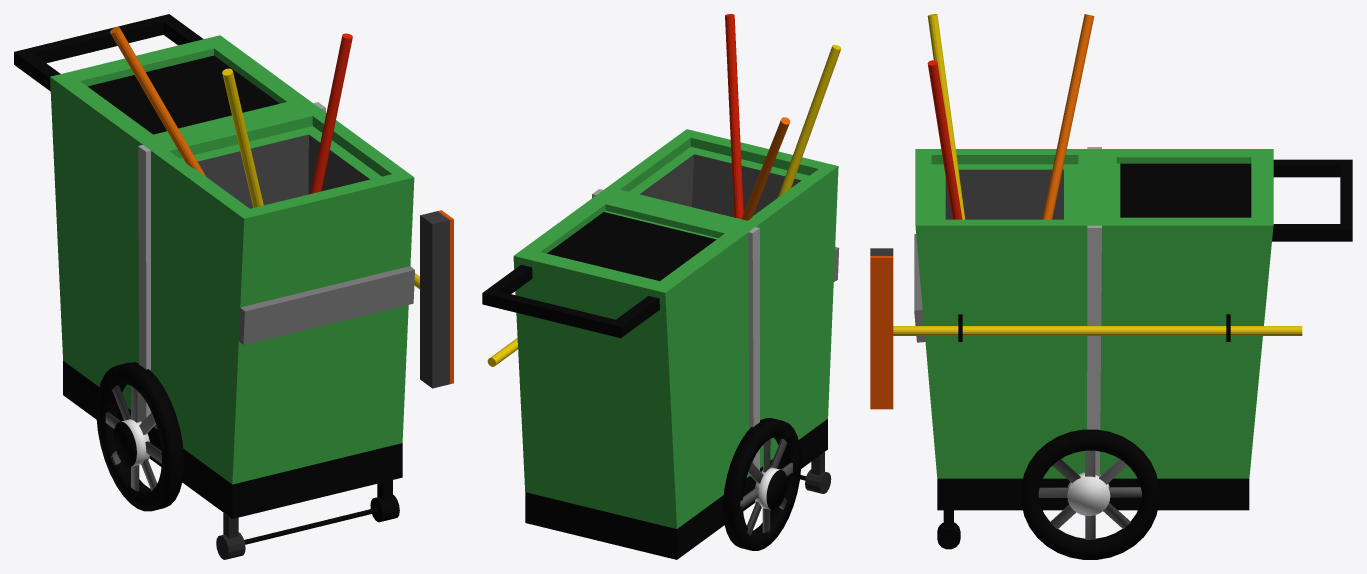
The model's file is cleaningcart.fbx.
3 views of the same model, side by side, from view 1: azimuth 30°, elevation 25°; view 2: azimuth 150°, elevation 25°; view 3: azimuth 270°, elevation 25° (orthographic). The views are drawn at different scales.
Parts seen in each view (by area): view 1: Cube; view 2: Cube; view 3: Cube.
Boxes of the visible parts, x1,y1,x2,y2 form: Cube: (14, 14, 453, 559); Cube: (482, 14, 841, 559); Cube: (870, 14, 1352, 559).
Bounding box in the file's own units: 270 × 564 × 532.
